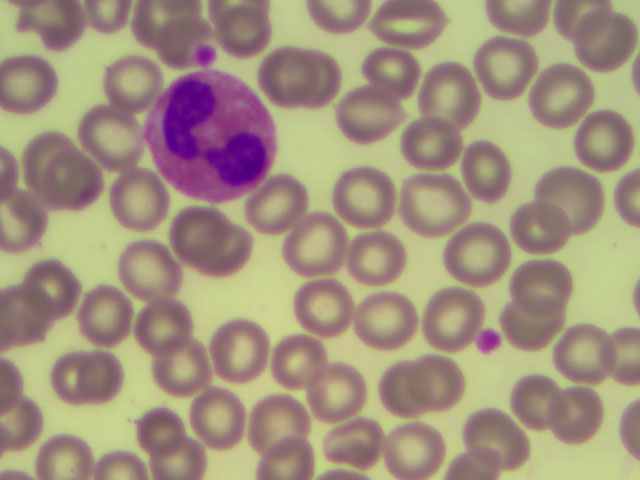Platelets: (155, 77, 279, 197), (476, 330, 498, 353), (194, 47, 211, 61)
RBC: (31, 416, 88, 480), (153, 416, 210, 480), (249, 416, 306, 480), (80, 104, 137, 167), (104, 52, 161, 115), (120, 1, 177, 64), (40, 154, 97, 217), (26, 127, 83, 190), (25, 249, 82, 312), (74, 285, 131, 348), (118, 239, 175, 302), (106, 169, 163, 232), (165, 196, 222, 259), (190, 215, 247, 278), (134, 286, 191, 349), (154, 333, 211, 396), (79, 346, 136, 409), (39, 352, 96, 415), (129, 396, 186, 459), (180, 386, 237, 449), (211, 323, 268, 386), (265, 327, 322, 390), (304, 358, 361, 421), (244, 387, 301, 450), (329, 415, 386, 478), (382, 416, 439, 479), (371, 353, 428, 416), (408, 352, 465, 415), (362, 289, 419, 352), (296, 277, 353, 340), (285, 218, 342, 281), (258, 181, 315, 244), (336, 155, 393, 218), (349, 229, 406, 292), (406, 164, 463, 227), (403, 117, 460, 180), (424, 64, 481, 127), (339, 88, 396, 151), (359, 44, 416, 107), (297, 43, 354, 106), (261, 44, 318, 107), (479, 33, 536, 96), (537, 65, 594, 128), (583, 107, 640, 170), (546, 157, 603, 220), (506, 198, 563, 261), (442, 222, 499, 285), (461, 137, 518, 200), (420, 275, 477, 338), (503, 288, 560, 351), (515, 251, 572, 314), (551, 321, 608, 384), (554, 386, 611, 449), (514, 363, 571, 426), (466, 407, 523, 470), (583, 1, 640, 64), (18, 1, 75, 63), (219, 1, 276, 63), (373, 1, 430, 63), (1, 53, 57, 116), (1, 191, 57, 254), (1, 285, 57, 348), (114, 1, 175, 53)
